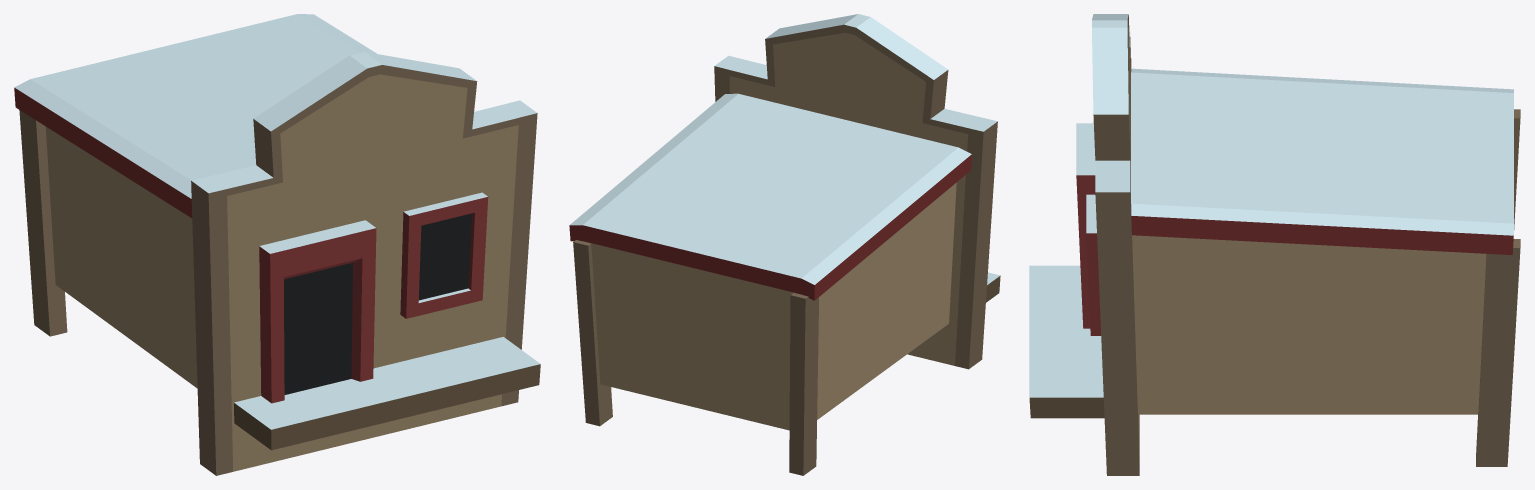
The model's file is SM_Bld_Western_Building_02_Snow.fbx.
3 renders of one model, left to right at view 1: azimuth 30°, elevation 25°; view 2: azimuth 150°, elevation 25°; view 3: azimuth 270°, elevation 25°, orthographic. The views are drawn at different scales.
Visible parts, largest first — view 1: SM_Bld_Western_Building_02_Snow; view 2: SM_Bld_Western_Building_02_Snow; view 3: SM_Bld_Western_Building_02_Snow.
Part boxes in pixels (x1,y1,x2,y2): SM_Bld_Western_Building_02_Snow: (14,14,540,475); SM_Bld_Western_Building_02_Snow: (569,14,1000,475); SM_Bld_Western_Building_02_Snow: (1029,14,1520,475).
Size of the model in its own units: 82.89 by 91 by 107.
Materials: 1 (1 with a texture image).
